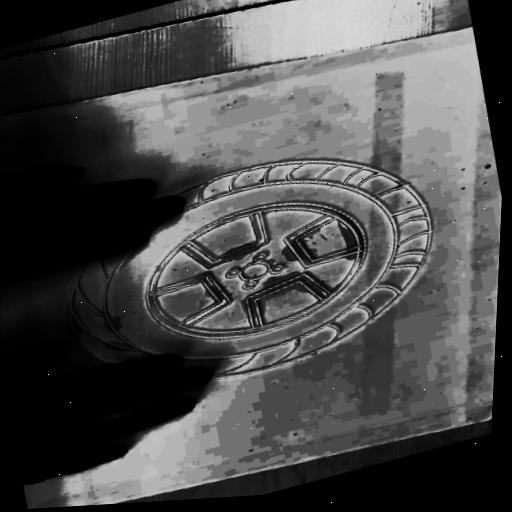bottom_right: (0, 108, 9, 121)
tire: (9, 125, 490, 418)
top_left: (477, 414, 492, 427)
